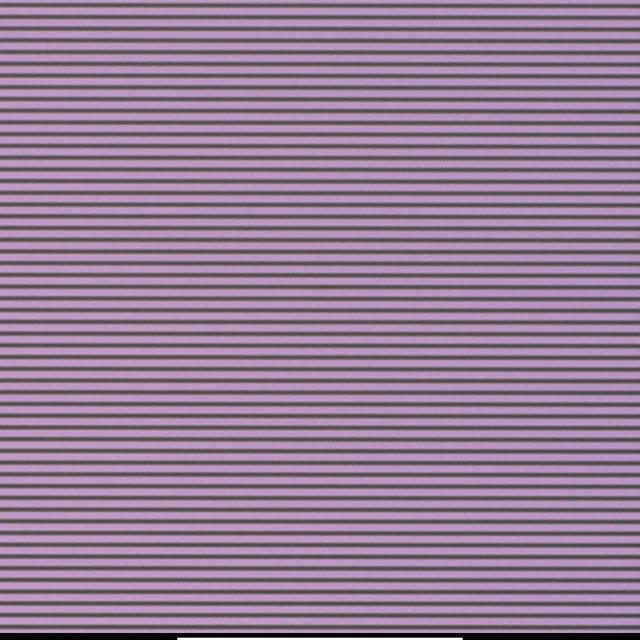nonvisual: (286, 187, 295, 198)
